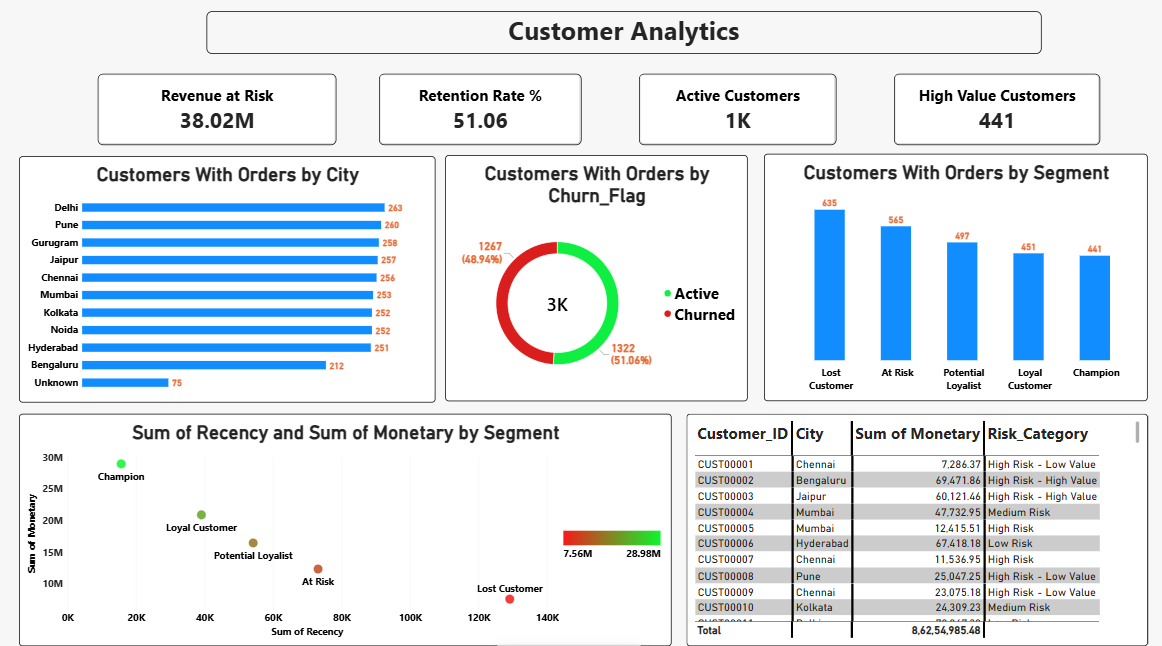

Layout of this report page (visuals, bound fields, positions):
{"tool":"powerbi","page":{"name":"Page 4","canvas":[2560,1440],"ordinal":2},"visuals":[{"type":"clusteredColumnChart","fields":{"Category":["Dim_RFM.Segment"],"Y":["Measures (3).Customers With Orders"]},"box":[1679.6,337.6,842.5,543.4],"z":0},{"type":"donutChart","fields":{"Category":["Dim_RFM.Churn_Flag"],"Y":["Measures (3).Customers With Orders"]},"box":[979.8,340.3,664.2,540.7],"z":1000},{"type":"clusteredBarChart","fields":{"Category":["Dim_Customers.City"],"Y":["Measures (3).Customers With Orders"]},"box":[43.9,343.1,914.5,540.5],"z":2000},{"type":"tableEx","fields":{"Values":["Dim_Customers.Customer_ID","Dim_Customers.City","Sum(Dim_RFM.Monetary)","Dim_RFM.Risk_Category"]},"box":[1509.4,908.4,1012.7,510.5],"z":3000},{"type":"scatterChart","fields":{"Category":["Dim_RFM.Segment"],"X":["Sum(Dim_RFM.Recency)"],"Y":["Sum(Dim_RFM.Monetary)"]},"box":[43.9,908.4,1394.2,510.5],"z":4000},{"type":"cardVisual","fields":{"Data":["Measures (3).Retention Rate %"]},"box":[922.1,161.9,444.6,156.4],"z":5000},{"type":"cardVisual","fields":{"Data":["Measures (3).Active Customers"]},"box":[1509.4,153.7,433.6,164.7],"z":6000},{"type":"cardVisual","fields":{"Data":["Measures (3).Revenue at Risk"]},"box":[216.8,161.9,524.2,156.4],"z":7000},{"type":"cardVisual","fields":{"Data":["Measures (3).High Value Customers"]},"box":[2017.2,137.2,452.8,172.9],"z":8000},{"type":"textbox","box":[455.6,24.7,1833.3,93.3],"z":9000}]}

Visuals, with their boxes in screenshot pixels (x1, y1, x2, y2), scaled from the page's 2560x1440 canvas onto the 1162x646 screenshot:
clusteredColumnChart - Dim_RFM.Segment x Measures (3).Customers With Orders: 762,151,1145,395
donutChart - Dim_RFM.Churn_Flag x Measures (3).Customers With Orders: 445,153,746,395
clusteredBarChart - Dim_Customers.City x Measures (3).Customers With Orders: 20,154,435,396
tableEx - Dim_Customers.Customer_ID x Dim_Customers.City: 685,408,1145,637
scatterChart - Dim_RFM.Segment x Sum(Dim_RFM.Recency): 20,408,653,637
cardVisual - Measures (3).Retention Rate %: 419,73,620,143
cardVisual - Measures (3).Active Customers: 685,69,882,143
cardVisual - Measures (3).Revenue at Risk: 98,73,336,143
cardVisual - Measures (3).High Value Customers: 916,62,1121,139
textbox: 207,11,1039,53
